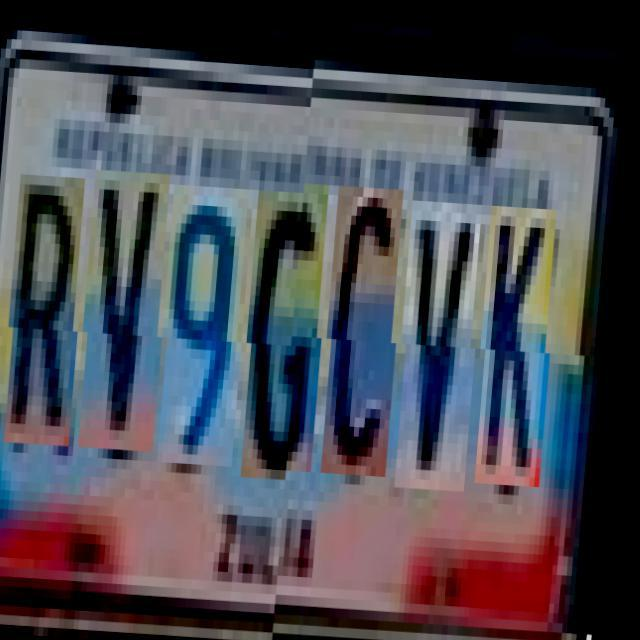9: (165, 182, 256, 463)
C: (328, 190, 411, 480)
G: (248, 186, 336, 476)
K: (482, 208, 564, 488)
R: (12, 174, 94, 445)
V: (86, 168, 178, 450), (402, 205, 489, 494)
